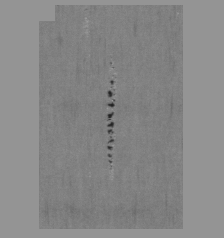oxl: (35, 10, 189, 228)
